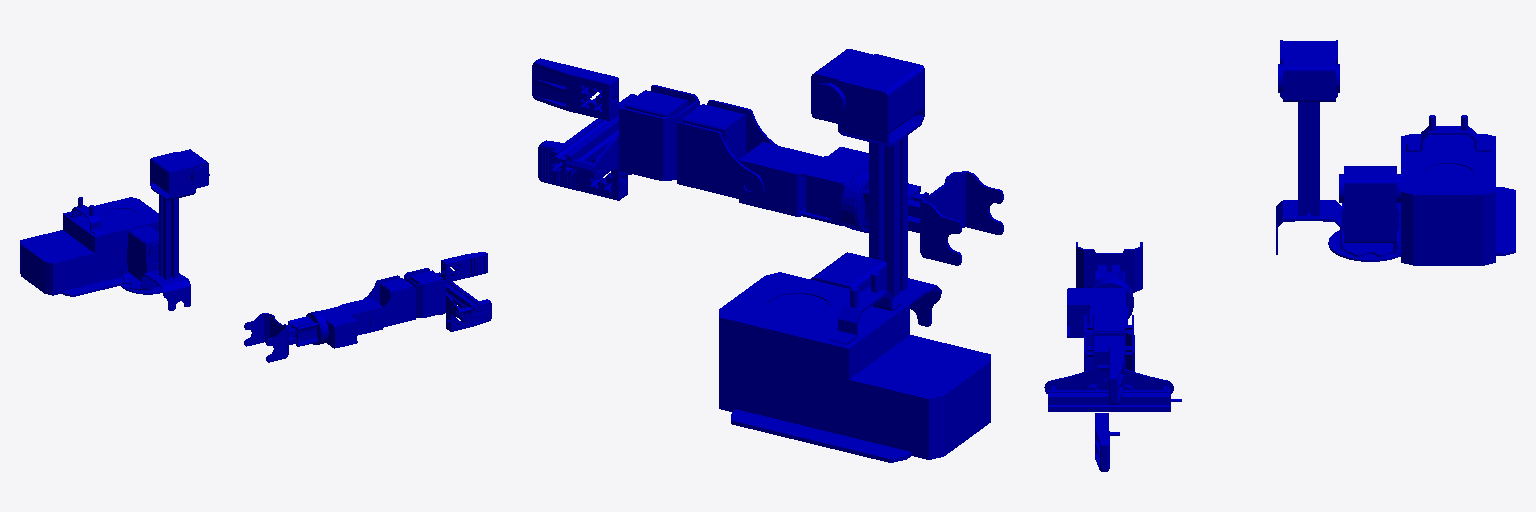
The robot description file, URDF, robot "sagittarius_arm":
<?xml version="1.0" encoding="utf-8"?>
<!-- This URDF was automatically created by SolidWorks to URDF Exporter! Originally created by [author] ([email redacted]) 
     Commit Version: 1.6.0-1-g15f4949  Build Version: 1.6.7594.29634
     For more information, please see http://wiki.ros.org/sw_urdf_exporter -->
<robot
  name="sagittarius_arm">

  <material name="blue">
    <color rgba="0.0 0.0 0.8 1.0"/>
  </material>

  <link
    name="sagittarius_base_link">
    <inertial>
      <origin
        xyz="0.00793179544277737 2.48115460577673E-19 0.0312047945759253"
        rpy="0 0 0" />
      <mass
        value="0.940146705073746" />
      <inertia
        ixx="0.000950195835062344"
        ixy="3.14825974312405E-20"
        ixz="-0.000200082473207336"
        iyy="0.00267650790326047"
        iyz="-1.01412991222915E-19"
        izz="0.002902663900239" />
    </inertial>
    <visual>
      <origin
        xyz="0 0 0"
        rpy="0 0 0" />
      <geometry>
        <mesh
          filename="../meshes/sagittarius_base_link.dae" />
      </geometry>
      <material name="blue"/>
    </visual>
    <collision>
      <origin
        xyz="0 0 0"
        rpy="0 0 0" />
      <geometry>
         <mesh filename="../meshes/sagittarius_base_link.dae" />
      </geometry>
    </collision>
  </link>

  <joint
    name="joint1"
    type="revolute">
    <!-- <origin  xyz="0.045 0 0.07"  rpy="0 0 0" /> -->
    <origin  xyz="4.5000000e-02 -6.9999979e-02 5.5741000e-05"  rpy="0 0 0" />
    <parent
      link="sagittarius_base_link" />
    <child
      link="link1" />
    <!-- <axis xyz="0 0 -1" /> -->
    <axis xyz="0 1 0" />
    <limit
      lower="-2"
      upper="2"
      effort="10"
      velocity="5" />
  </joint>

  <link
    name="link1">
    <inertial>
      <origin
        xyz="-7.74579608786574E-10 3.23354786979222E-12 0.0344870497564283"
        rpy="0 0 0" />
      <mass
        value="0.123745079127031" />
      <inertia
        ixx="8.15779591743416E-05"
        ixy="-4.25325094802094E-15"
        ixz="-2.22201794150093E-12"
        iyy="6.7607001964135E-05"
        iyz="-1.59127137655435E-14"
        izz="4.41297902395382E-05" />
    </inertial>
    <visual>
      <origin xyz="0 0 0" rpy="0 0 0" />
      <geometry>
        <mesh
          filename="../meshes/link1.dae" />
      </geometry>
      <material name="blue"/>
    </visual>
    <collision>
      <origin
        xyz="0 0 0"
        rpy="0 0 0" />
      <geometry>
         <mesh filename="../meshes/link1.dae" /> 
      </geometry>
    </collision>
  </link>

  <joint
    name="joint2"
    type="revolute">
    <!-- <origin  xyz="0 -0.0001 0.055"  rpy="0 0 0" /> -->
    <origin  xyz="0.00000000e+00 -5.50000631e-02 -0.0001"  rpy="0 0 0" />
    <parent
      link="link1" />
    <child
      link="link2" />
    <!-- <axis xyz="0 -1 0" /> -->
    <axis xyz="0 0 -1" />
    <limit
      lower="-1.57"
      upper="1.4"
      effort="10"
      velocity="5" />
  </joint>

  <link
    name="link2">
    <inertial>
      <origin xyz="0.0119015312584793 -1.03639845764692E-08 0.150755903867182"  rpy="0 0 0" />
      <mass
        value="0.156160822791157" />
      <inertia
        ixx="0.000429266751802994"
        ixy="-2.27426165787001E-11"
        ixz="-5.58862834004722E-05"
        iyy="0.000444676097748043"
        iyz="-2.41993274420629E-10"
        izz="7.916162292894E-05" />
    </inertial>
    <visual>
      <origin
        xyz="0 0 0"
        rpy="0 0 0" />
      <geometry>
        <mesh filename="../meshes/link2.dae" />
      </geometry>
      <material name="blue"/>
    </visual>
    <collision>
      <origin
        xyz="0 0 0"
        rpy="0 0 0" />
      <geometry>
        <mesh filename="../meshes/link2.dae" />
      </geometry>
    </collision>
  </link> 
  
  
  <joint
    name="joint3"
    type="revolute">
    <!-- <origin xyz="0.033 -0.0001 0.179" rpy="0 0 0" /> -->
    <origin xyz="0.033 -0.179 -0.0001" rpy="0 0 0" />
    <parent
      link="link2" />
    <child
      link="link3" />
    <!-- <axis xyz="0 -1 0" /> -->
    <axis xyz="0 0 -1" />
    <limit
      lower="-1.48"
      upper="1.8"
      effort="10"
      velocity="5" />
  </joint>

  <link
    name="link3">
    <inertial>
      <origin
        xyz="0.054357321065004 -2.67256405253992E-08 0.00064594073830132"
        rpy="0 0 0" />
      <mass
        value="0.0366487313200473" />
      <inertia
        ixx="9.28701176876329E-06"
        ixy="-2.23878504272996E-11"
        ixz="6.34310578103811E-07"
        iyy="2.0727596617309E-05"
        iyz="-1.71647322080315E-11"
        izz="2.42416271089979E-05" />
    </inertial>
    <visual>
      <origin
        xyz="0 0 0"
        rpy="0 0 0" />
      <geometry>
        <mesh filename="../meshes/link3.dae" />
      </geometry>
      <material name="blue"/>
    </visual>
    <collision>
      <origin
        xyz="0 0 0"
        rpy="0 0 0" />
      <geometry>
        <mesh filename="../meshes/link3.dae" />
      </geometry>
    </collision>
  </link>

  <joint
    name="joint4"
    type="revolute">
    <origin xyz="0.0845 0 0" rpy="0 0 0" />
    <parent
      link="link3" />
    <child
      link="link4" />
    <axis xyz="-1 0 0" />
    <limit
      lower="-2.90"
      upper="2.90"
      effort="10"
      velocity="5" />
  </joint>
  
  <link
    name="link4">
    <inertial>
      <origin
        xyz="0.0444029485674779 -0.00527865310158246 -1.43738021485262E-10"
        rpy="0 0 0" />
      <mass
        value="0.124950088011432" />
      <inertia
        ixx="3.52699895078887E-05"
        ixy="-1.14870103744551E-05"
        ixz="2.45948329713632E-14"
        iyy="0.00010928557067047"
        iyz="-3.42525315676607E-12"
        izz="0.000121451732690361" />
    </inertial>
    <visual>
      <origin
        xyz="0 0 0"
        rpy="0 0 0" />
      <geometry>
        <mesh filename="../meshes/link4.dae" />
      </geometry>
      <material name="blue"/>
    </visual>
    <collision>
      <origin
        xyz="0 0 0"
        rpy="0 0 0" />
      <geometry>
        <mesh filename="../meshes/link4.dae" />
      </geometry>
    </collision>
  </link>

  <joint
    name="joint5"
    type="revolute">
    <!-- <origin xyz="0.08435 0.00065 0" rpy="0 0 0" /> -->
    <origin xyz="0.08435 0 0.00065" rpy="0 0 0" />
    <parent
      link="link4" />
    <child
      link="link5" />
    <!-- <axis xyz="0 -1 0" /> -->
    <axis xyz="0 0 -1" />
    <limit
      lower="-1.8"
      upper="1.60"
      effort="10"
      velocity="5" />
  </joint>

  <link
    name="link5">
    <inertial>
      <origin
        xyz="0.0391172635125616 1.22102848665318E-15 0.011359922796391"
        rpy="0 0 0" />
      <mass
        value="0.0564710099602834" />
      <inertia
        ixx="1.77667699918498E-05"
        ixy="3.77572698012408E-19"
        ixz="-6.79618041712231E-07"
        iyy="1.89643063051294E-05"
        iyz="1.78381670331667E-19"
        izz="1.66130972969903E-05" />
    </inertial>
    <visual>
      <origin
        xyz="0 0 0"
        rpy="0 0 0" />
      <geometry>
        <mesh filename="../meshes/link5.dae" />
      </geometry>
      <material name="blue"/>
    </visual>
    <collision>
      <origin
        xyz="0 0 0"
        rpy="0 0 0" />
      <geometry>
        <mesh filename="../meshes/link5.dae" />
      </geometry>
    </collision>
  </link>

  <joint
    name="joint6"
    type="revolute">
    <origin
      xyz="0.061387 0 0"
      rpy="0 0 0" />
    <parent
      link="link5" />
    <child
      link="link6" />
    <axis
      xyz="-1 0 0" />
    <limit
      lower="-3.1"
      upper="3.1"
      effort="10"
      velocity="5" />
  </joint>
  
  <link
    name="link6">
    <inertial>
      <origin
        xyz="0.0330748503556987 -1.47583477394259E-10 0.00874151659437283"
        rpy="0 0 0" />
      <mass
        value="0.0790875358325134" />
      <inertia
        ixx="4.00727396068743E-05"
        ixy="1.5026227935429E-13"
        ixz="6.77337873337555E-06"
        iyy="4.37063090227749E-05"
        iyz="-1.73263828329941E-13"
        izz="5.69755186998711E-05" />
    </inertial>
    <visual>
      <origin
        xyz="0 0 0"
        rpy="0 0 0" />
      <geometry>
        <mesh filename="../meshes/link6.dae" />
      </geometry>
      <material name="blue"/>
    </visual>
    <collision>
      <origin
        xyz="0 0 0"
        rpy="0 0 0" />
      <geometry>
        <mesh filename="../meshes/link6.dae" />
      </geometry>
    </collision>
  </link>
  

  <link
    name="link_grasping_frame">
    <inertial>
      <origin
        xyz="-0.29292863789122 -0.000855248417215765 -0.182862893125548"
        rpy="0 0 0" />
      <mass
        value="1.55422651132493" />
      <inertia
        ixx="0.0246807389934657"
        ixy="6.12977506319177E-05"
        ixz="-0.0174568851774044"
        iyy="0.0450160124726729"
        iyz="0.000114187269419605"
        izz="0.0218809326193524" />
    </inertial>
  </link>
  <joint
    name="joint_grasping_frame"
    type="fixed">
    <origin
      xyz="0.0557 0 0"
      rpy="0 0 0" />
    <parent
      link="link6" />
    <child
      link="link_grasping_frame" />
    <axis
      xyz="0 0 0" />
    <limit
      lower="0"
      upper="0"
      effort="10"
      velocity="5" />
  </joint>
  <link
    name="link_gripper_left">
    <inertial>
      <origin
        xyz="0.0168448613850675 0.00562743947549268 -3.34157867051821E-05"
        rpy="0 0 0" />
      <mass
        value="0.0185082696416839" />
      <inertia
        ixx="1.65620668352765E-06"
        ixy="3.12039082733024E-07"
        ixz="-1.06123823321138E-09"
        iyy="7.56731403094351E-06"
        iyz="5.54920898904154E-11"
        izz="6.37610666327876E-06" />
    </inertial>
    <visual>
      <origin
        xyz="0 0 0"
        rpy="0 0 0" />
      <geometry>
        <mesh
          filename="../meshes/link_gripper_left.dae" />
      </geometry>
      <material name="blue"/>
    </visual>
    <collision>
      <origin
        xyz="0 0 0"
        rpy="0 0 0" />
      <geometry>
        <mesh
          filename="../meshes/link_gripper_left.dae" />
      </geometry>
    </collision>
  </link>

  <joint
    name="joint_gripper_left"
    type="prismatic">
    <!-- <origin xyz="0.0695 0.033 0" rpy="0 0 0" /> -->
    <origin xyz="0.0695 0 0.033" rpy="0 0 0" />
    <parent
      link="link6" />
    <child
      link="link_gripper_left" />
    <!-- <axis xyz="0 1 0" /> -->
    <axis xyz="0 0 1" />
    <limit
      lower="-0.034"
      upper="0"
      effort="10"
      velocity="5" />
  </joint>

  <link
    name="link_gripper_right">
    <inertial>
      <origin
        xyz="0.0168448612901284 -0.00562743946967042 3.34158424380449E-05"
        rpy="0 0 0" />
      <mass
        value="0.0185082695670405" />
      <inertia
        ixx="1.65620670013429E-06"
        ixy="-3.12039085367371E-07"
        ixz="1.06121397059487E-09"
        iyy="7.56731399585561E-06"
        iyz="5.54960746810554E-11"
        izz="6.37610660879392E-06" />
    </inertial>
    <visual>
      <origin
        xyz="0 0 0"
        rpy="0 0 0" />
      <geometry>
        <mesh
          filename="../meshes/link_gripper_right.dae" />
      </geometry>
      <material name="blue"/>
    </visual>
    <collision>
      <origin
        xyz="0 0 0"
        rpy="0 0 0" />
      <geometry>
        <mesh
          filename="../meshes/link_gripper_right.dae" />
      </geometry>
    </collision>
  </link>

  <joint
    name="joint_gripper_right"
    type="prismatic">
    <!-- <origin xyz="0.0695 -0.033 0" rpy="0 0 0" /> -->
    <origin xyz="0.0695 0 -0.033" rpy="0 0 0" />
    <parent
      link="link6" />
    <child
      link="link_gripper_right" />
    <!-- <axis xyz="0 -1 0" /> -->
    <axis xyz="0 0 -1" />
    <limit
      lower="-0.034"
      upper="0"
      effort="10"
      velocity="5" />
  </joint> 

</robot>

--- What the picture shows (computed from the rendered views, not written in the file) ---
The picture shows the robot from 3 angles, left to right: view 1: azimuth 30°, elevation 25°; view 2: azimuth 150°, elevation 25°; view 3: azimuth 270°, elevation 25°; orthographic projection.
Robot: sagittarius_arm — 10 links, 9 joints (6 revolute, 2 prismatic, 1 fixed); root link sagittarius_base_link; default pose: all joints at 0.
Links seen in each view (by area): view 1: sagittarius_base_link, link2, link6, link3, link4, link1, link5, link_gripper_left, link_gripper_right; view 2: sagittarius_base_link, link2, link6, link4, link5, link3, link_gripper_left, link_gripper_right, link1; view 3: sagittarius_base_link, link2, link6, link1, link4, link3, link_gripper_left, link_gripper_right, link5.
Link boxes in pixels (left/top/right/bottom): sagittarius_base_link: left=20, top=197, right=158, bottom=296; link2: left=141, top=149, right=209, bottom=310; link6: left=404, top=268, right=480, bottom=317; link3: left=244, top=313, right=321, bottom=362; link4: left=311, top=298, right=382, bottom=348; link1: left=120, top=226, right=162, bottom=294; link5: left=364, top=275, right=415, bottom=328; link_gripper_left: left=441, top=252, right=487, bottom=282; link_gripper_right: left=446, top=299, right=491, bottom=331; sagittarius_base_link: left=719, top=272, right=990, bottom=462; link2: left=811, top=49, right=941, bottom=326; link6: left=552, top=85, right=699, bottom=180; link4: left=739, top=142, right=868, bottom=231; link5: left=677, top=100, right=777, bottom=201; link3: left=855, top=171, right=1003, bottom=265; link_gripper_left: left=532, top=58, right=618, bottom=120; link_gripper_right: left=538, top=140, right=627, bottom=200; link1: left=811, top=252, right=886, bottom=291; sagittarius_base_link: left=1394, top=115, right=1515, bottom=265; link2: left=1276, top=40, right=1341, bottom=254; link6: left=1044, top=332, right=1181, bottom=411; link1: left=1328, top=166, right=1400, bottom=261; link4: left=1067, top=278, right=1133, bottom=337; link3: left=1076, top=242, right=1142, bottom=297; link_gripper_left: left=1098, top=346, right=1123, bottom=404; link_gripper_right: left=1095, top=413, right=1119, bottom=471; link5: left=1084, top=315, right=1133, bottom=334.
Size in the robot's own frame: 0.5182 by 0.4219 by 0.2429 metres.
9 mesh visuals loaded from 9 distinct referenced files (9 Collada DAE).